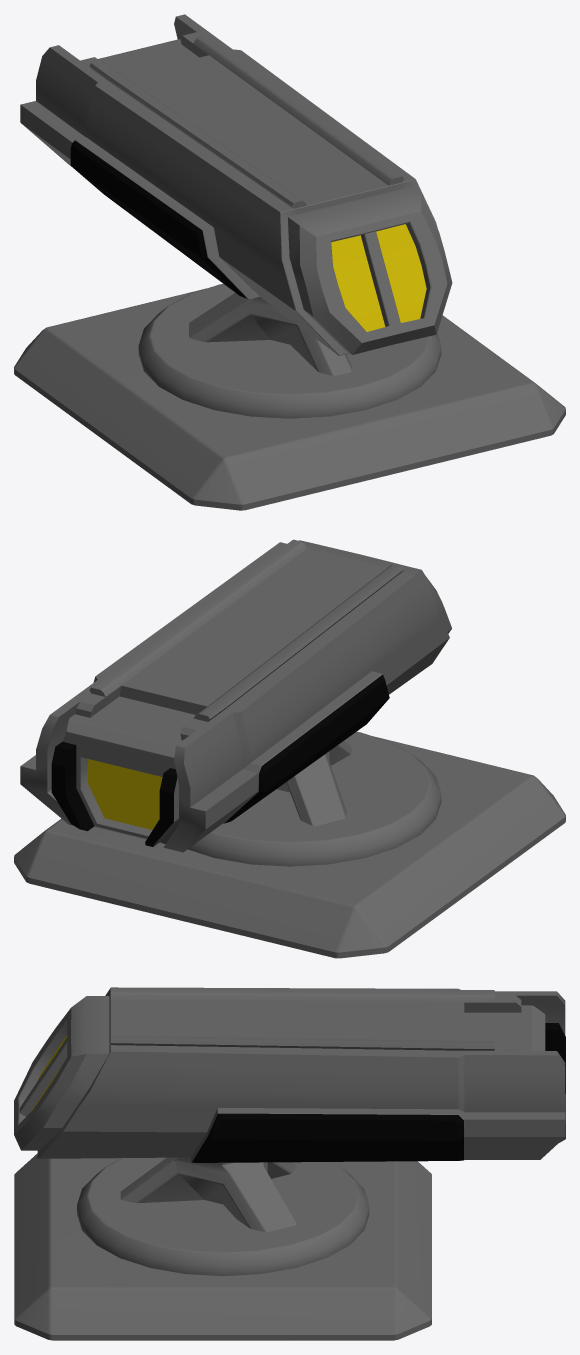
File: thruster.fbx
The picture shows the model from 3 angles, top to bottom: view 1: azimuth 30°, elevation 25°; view 2: azimuth 150°, elevation 25°; view 3: azimuth 270°, elevation 25°; orthographic projection. The views are drawn at different scales.
Visible parts, largest first — view 1: pCube3, pCube1, pCylinder1, pCylinder2; view 2: pCube3, pCube1, pCylinder1, pCylinder2; view 3: pCube3, pCube1, pCylinder1, pCylinder2.
Boxes of the visible parts, x1,y1,x2,y2 form: pCube3: [20, 14, 452, 355]; pCube1: [14, 288, 565, 510]; pCylinder1: [138, 284, 441, 418]; pCylinder2: [189, 292, 352, 375]; pCube3: [20, 539, 451, 852]; pCube1: [14, 736, 565, 958]; pCylinder1: [188, 731, 441, 866]; pCylinder2: [276, 741, 352, 826]; pCube3: [14, 987, 565, 1162]; pCube1: [14, 1153, 431, 1340]; pCylinder1: [77, 1157, 369, 1276]; pCylinder2: [120, 1157, 296, 1232].
Bounding box in the file's own units: 1 × 0.63 × 1.32.
